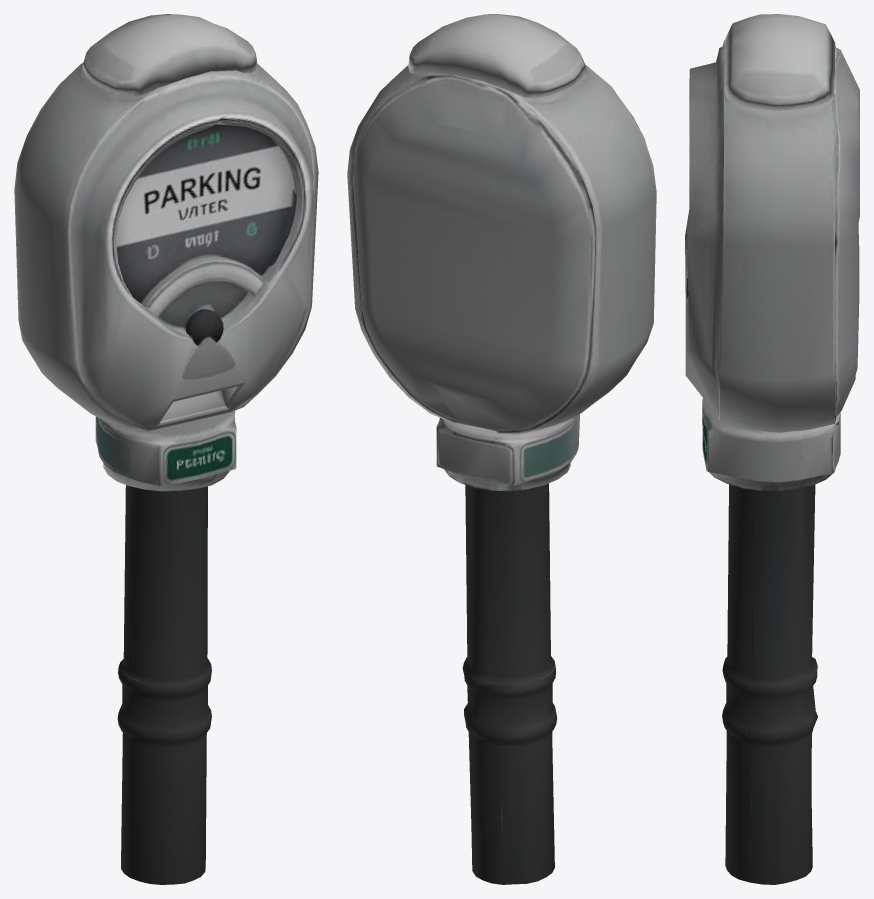
File: parking_meter.glb
3 views of the same model, side by side, from view 1: azimuth 30°, elevation 25°; view 2: azimuth 150°, elevation 25°; view 3: azimuth 270°, elevation 25° (orthographic).
Size of the model in its own units: 0.3169 by 0.9512 by 0.1778.
Materials: 1 (1 with a texture image).
